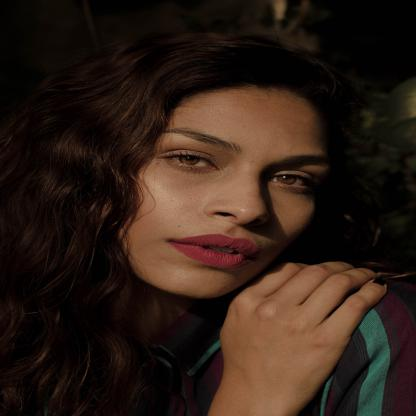Eye: (155, 142, 228, 175), (273, 165, 318, 193)
Mouth: (168, 232, 265, 274)
Nose: (206, 167, 270, 228)
